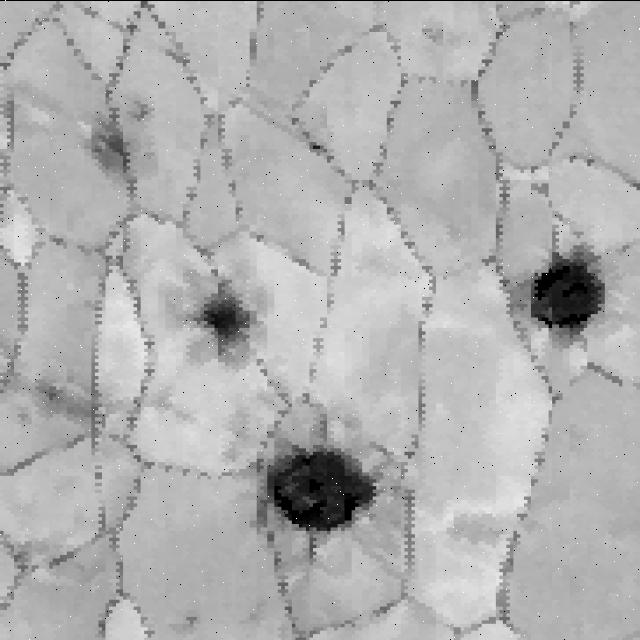good_void: (261, 437, 390, 534), (519, 233, 607, 336), (197, 279, 263, 347), (85, 121, 151, 187), (16, 381, 103, 427), (163, 605, 202, 637), (127, 100, 149, 122)
